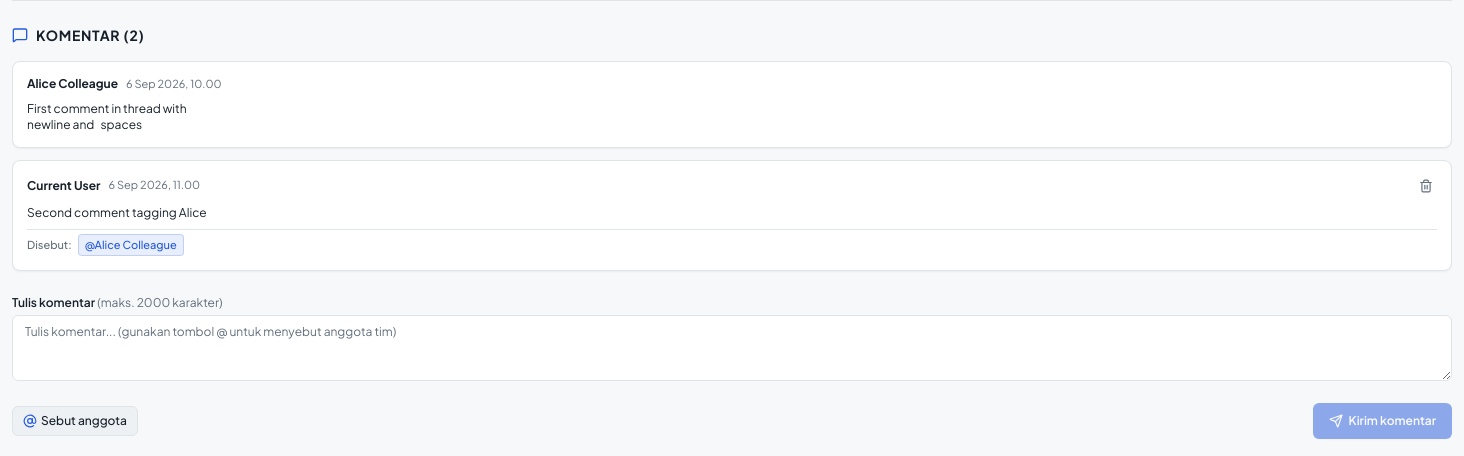
Phase 10 Task 9 — Task Comments & Structured Mentions UX › allows author to delete own comment and removes it from feed
Expected: the text "Second comment tagging Alice" is shown, [27,204,207,220]
# Delete button for own comment (comm-2)
What coordinates should you click on to do the following:
click the button named "Hapus komentar oleh Current User"
I would click on:
 (1426, 186)
Its box is [1415,174,1437,196].
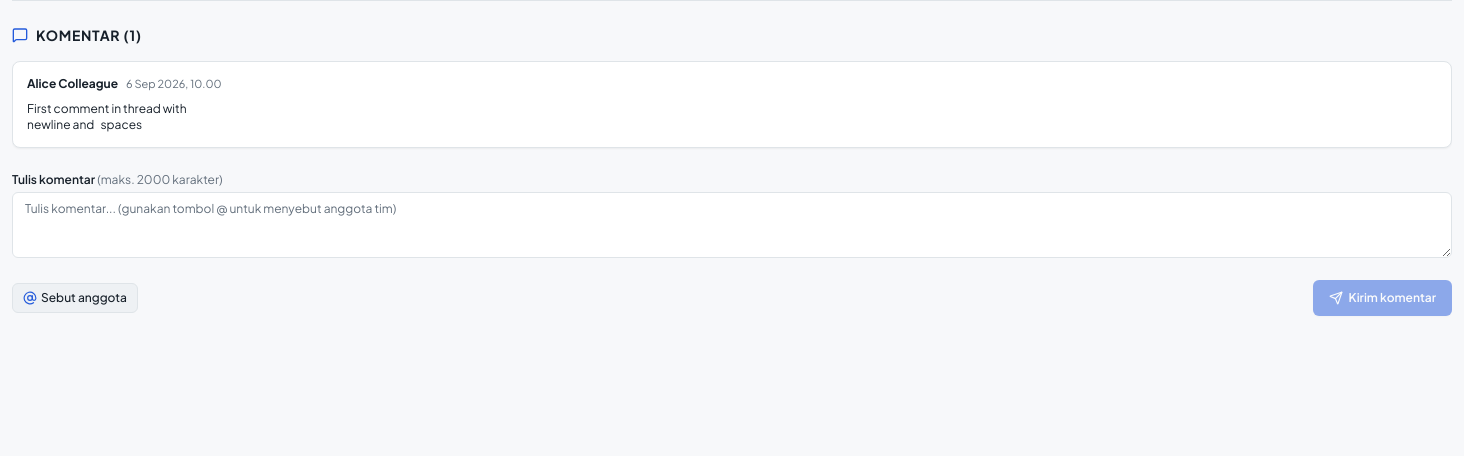
Result: the text "Second comment tagging Alice" is gone
